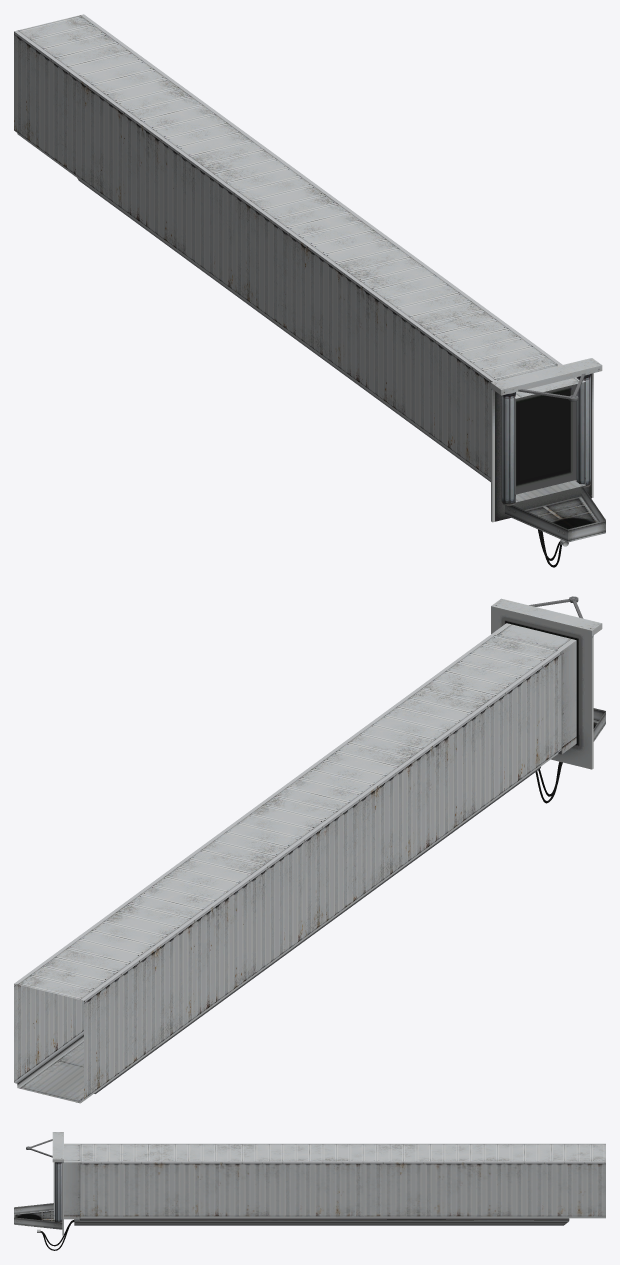
Rendered from jw_tunnel_2_13a.gltf.
3 renders of one model, top to bottom at view 1: azimuth 30°, elevation 25°; view 2: azimuth 150°, elevation 25°; view 3: azimuth 270°, elevation 25°, orthographic. The views are drawn at different scales.
Visible parts, largest first — view 1: jw_tunnel_2_13a; view 2: jw_tunnel_2_13a; view 3: jw_tunnel_2_13a.
Part boxes in pixels (x1=…): jw_tunnel_2_13a: x1=14, y1=14, x2=605, y2=567; jw_tunnel_2_13a: x1=14, y1=596, x2=605, y2=1103; jw_tunnel_2_13a: x1=14, y1=1132, x2=605, y2=1250.
Size of the model in its own units: 2.4 by 4.33 by 22.12.
2 materials, 2 textured.
